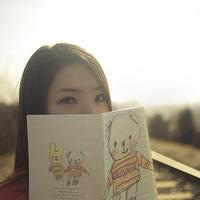face: (40, 62, 110, 158)
